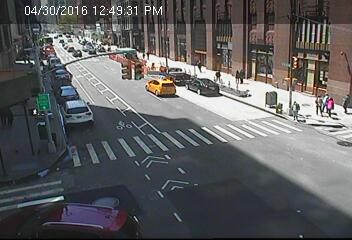neg: (218, 115, 248, 155), (198, 166, 227, 205), (276, 149, 305, 188), (69, 192, 95, 226), (250, 78, 274, 111), (137, 124, 161, 156), (38, 167, 61, 198), (193, 67, 215, 97), (182, 117, 201, 143), (328, 40, 347, 65), (306, 19, 325, 44), (246, 11, 265, 36), (43, 81, 60, 103), (168, 72, 184, 94), (106, 144, 122, 166), (47, 27, 63, 47), (158, 10, 173, 30), (95, 47, 109, 66), (294, 56, 308, 75), (141, 56, 155, 74), (267, 44, 280, 61), (200, 39, 212, 55), (194, 10, 206, 26)
pos: (328, 85, 351, 115), (2, 100, 24, 129), (285, 98, 301, 120), (312, 93, 326, 112), (324, 93, 338, 112)
